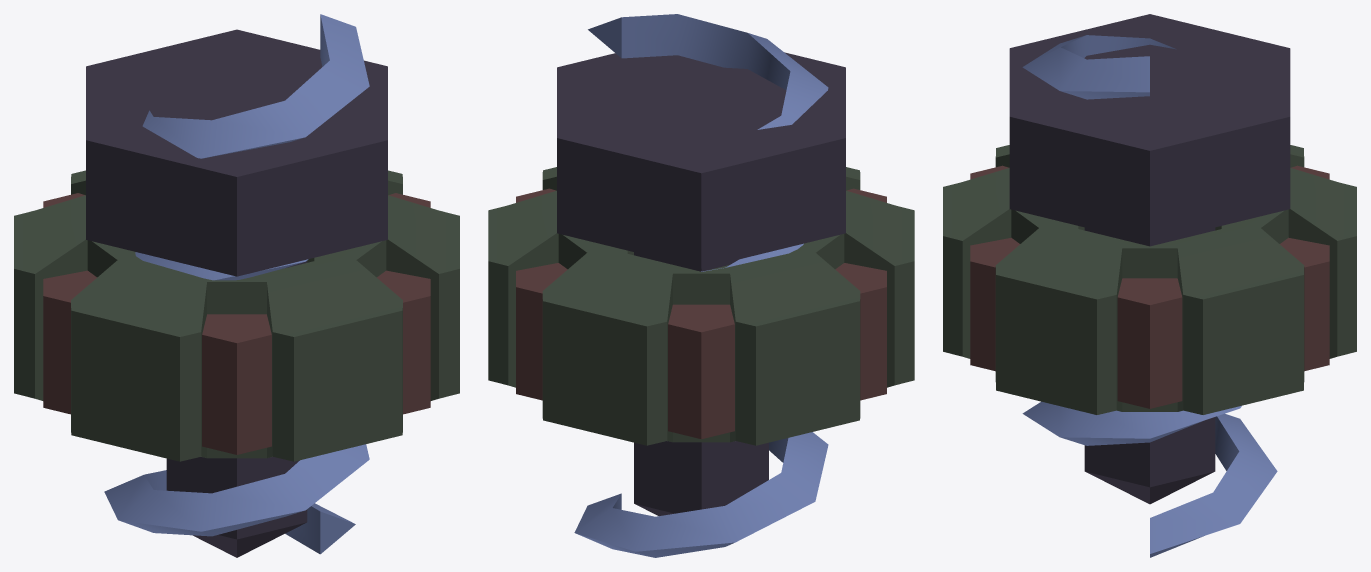
Rendered from ME_MetallicPieces.fbx.
The picture shows the model from 3 angles, left to right: view 1: azimuth 30°, elevation 25°; view 2: azimuth 150°, elevation 25°; view 3: azimuth 270°, elevation 25°; orthographic projection. The views are drawn at different scales.
Visible parts, largest first — view 1: Gear, Bolt, Spring, Nut; view 2: Gear, Bolt, Spring, Nut; view 3: Gear, Bolt, Spring, Nut.
Part boxes in pixels (bbox=[...]): Gear: bbox=[14, 170, 459, 461]; Bolt: bbox=[86, 29, 387, 557]; Spring: bbox=[104, 14, 369, 554]; Nut: bbox=[43, 193, 430, 454]; Gear: bbox=[488, 167, 914, 445]; Bolt: bbox=[557, 52, 845, 515]; Spring: bbox=[574, 14, 828, 557]; Nut: bbox=[516, 188, 886, 439]; Gear: bbox=[943, 145, 1356, 414]; Bolt: bbox=[1009, 14, 1290, 504]; Spring: bbox=[1022, 35, 1277, 557]; Nut: bbox=[970, 165, 1329, 408].
Size of the model in its own units: 257 by 342 by 255.
